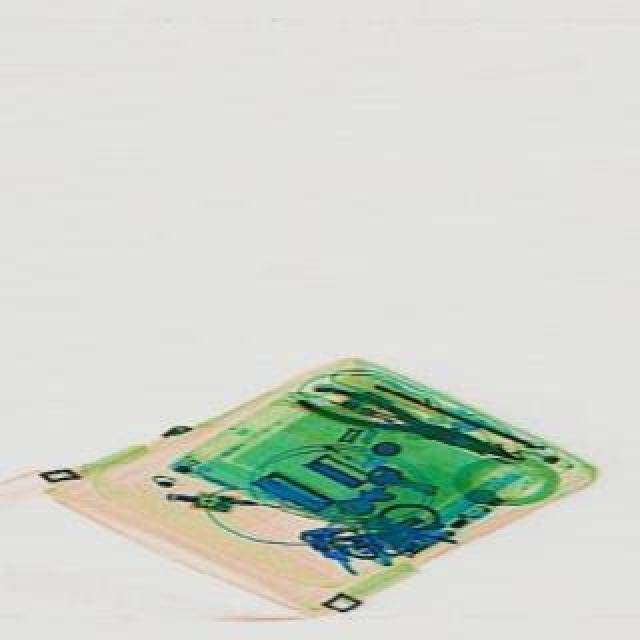wrench: (292, 378, 522, 470)
